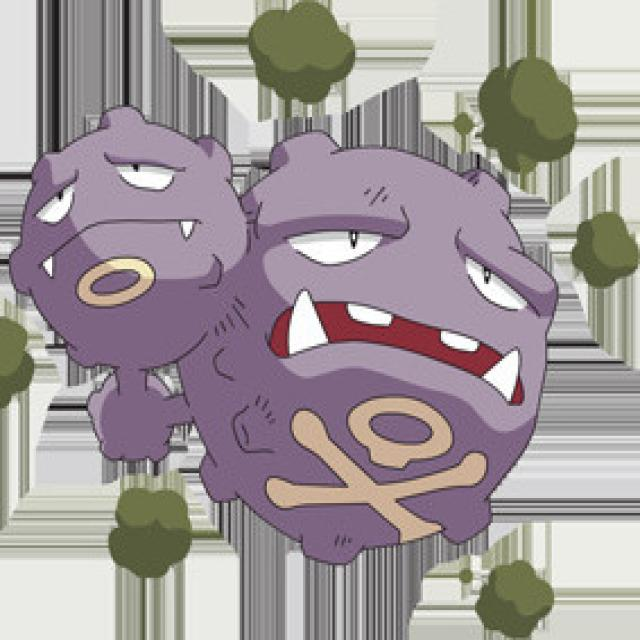Weezing: (20, 97, 577, 597)
